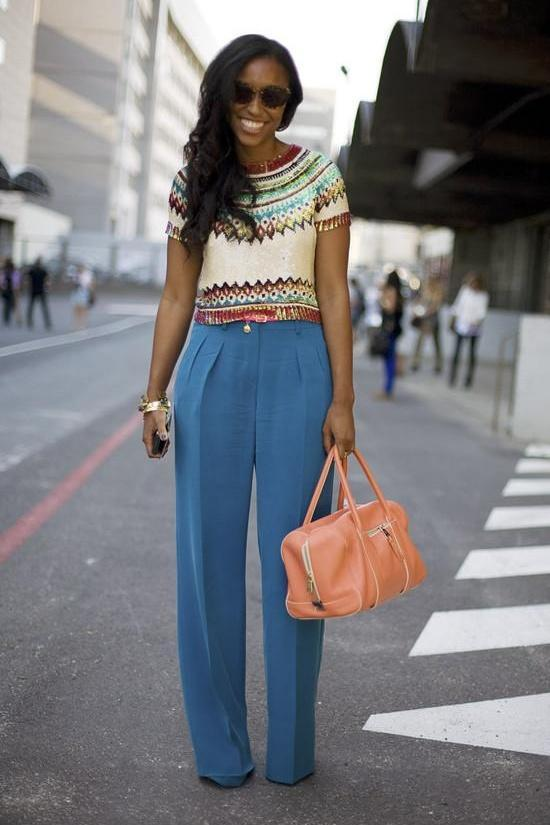Tshirt: (166, 144, 352, 326)
pants: (171, 318, 336, 788)
